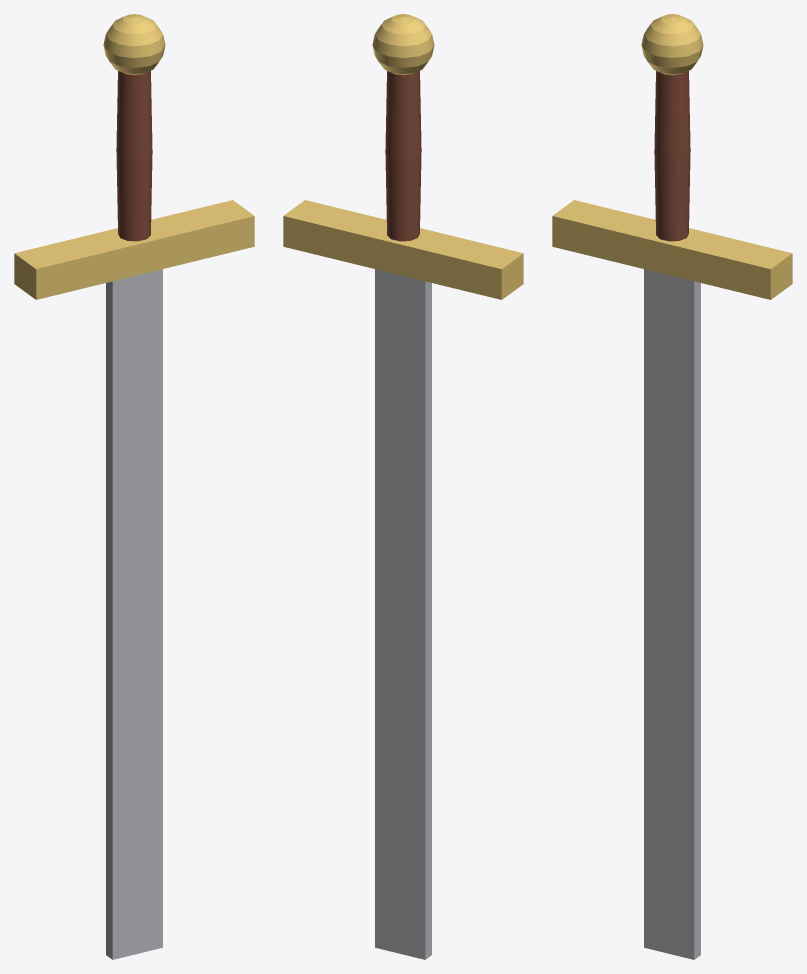
File: Sword.gltf
3 views of the same model, side by side, from view 1: azimuth 30°, elevation 25°; view 2: azimuth 150°, elevation 25°; view 3: azimuth 330°, elevation 25° (orthographic).
Bounding box in the file's own units: 0.26 × 1.06 × 0.064.
